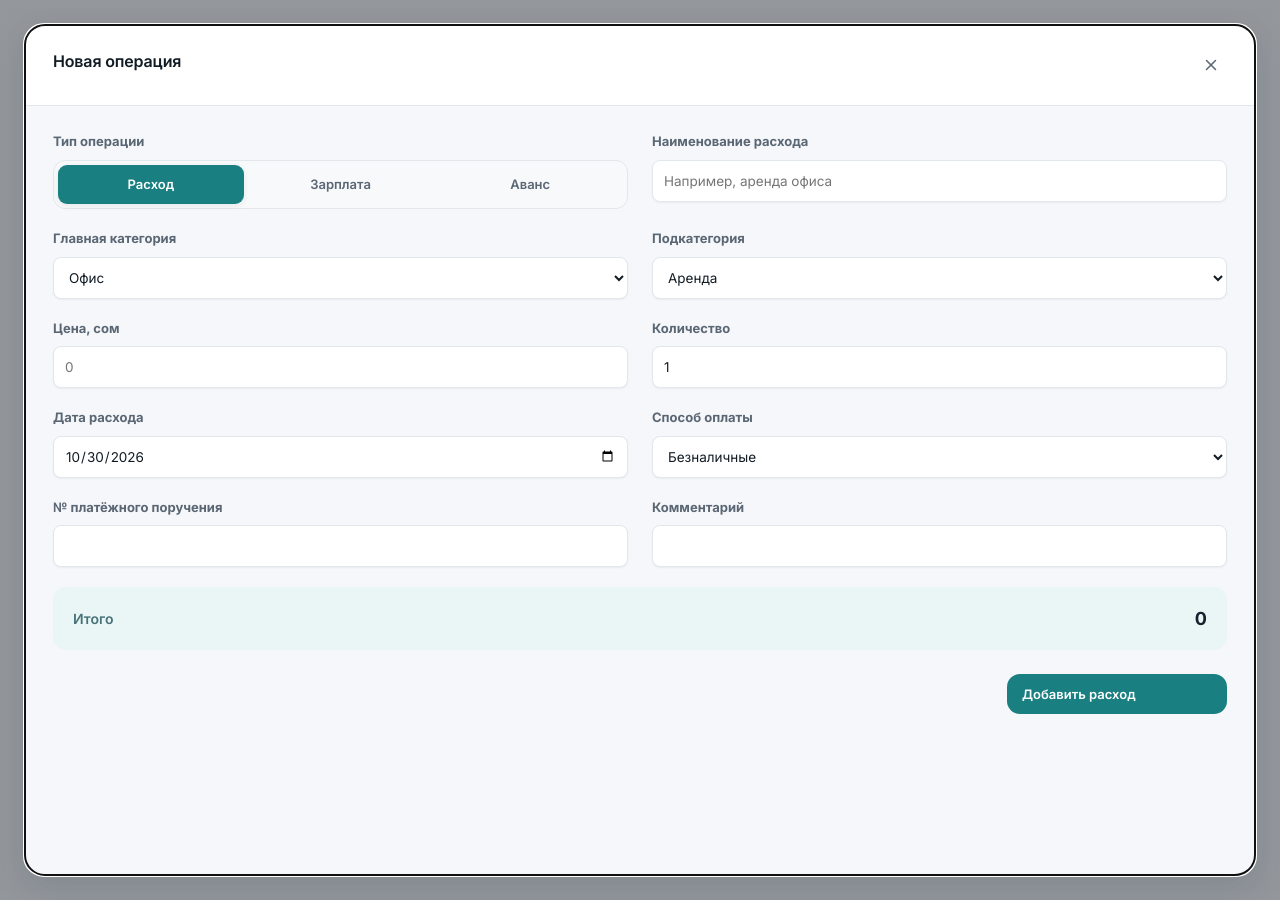
one card keeps payment details while switching between expense, salary and advance
Type "Бумага" into the field labelled "Наименование расхода" at (940, 180), box [652,160,1227,202]
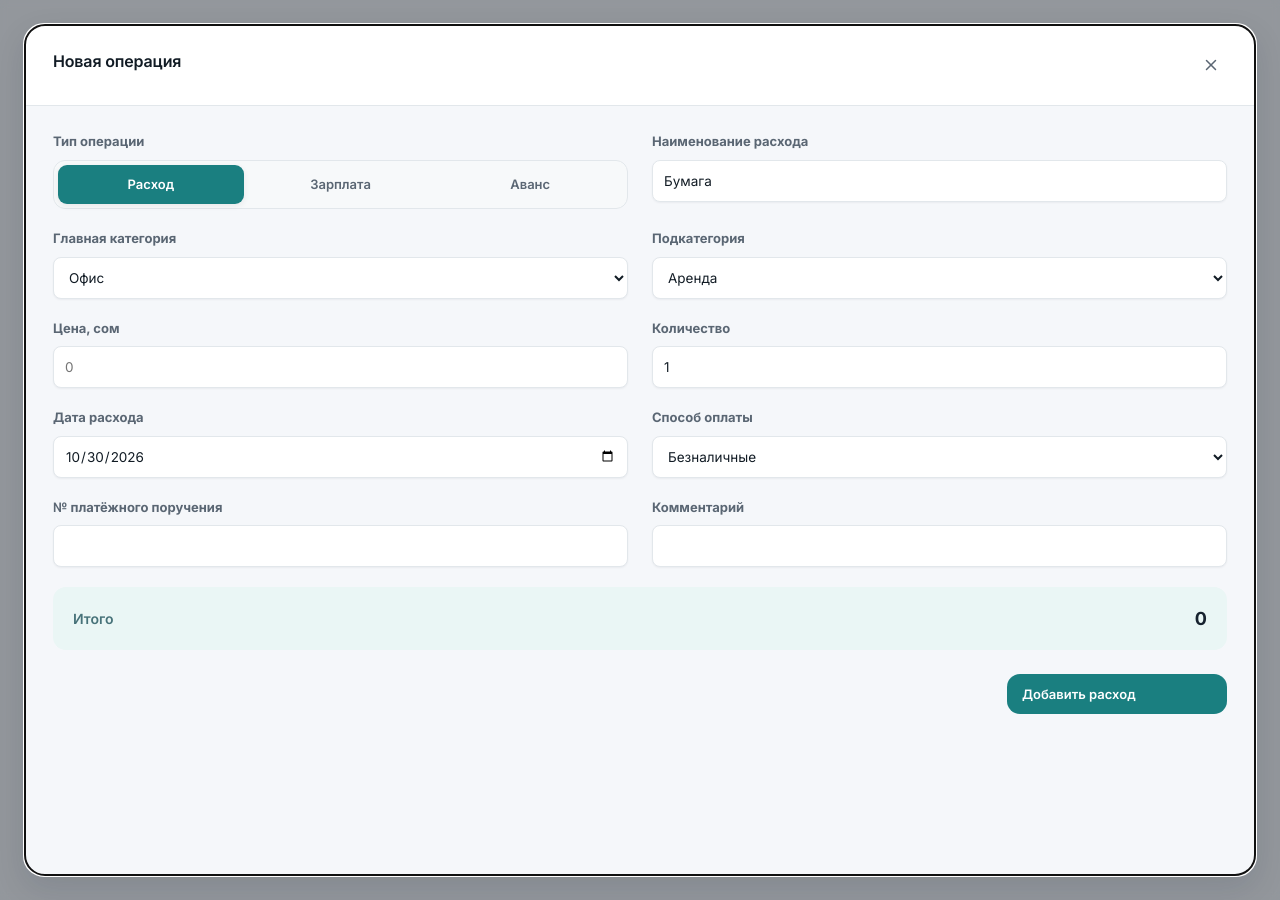
Type "Сохранить комментарий" into the field labelled "Комментарий" at (940, 546), box [652,525,1227,567]
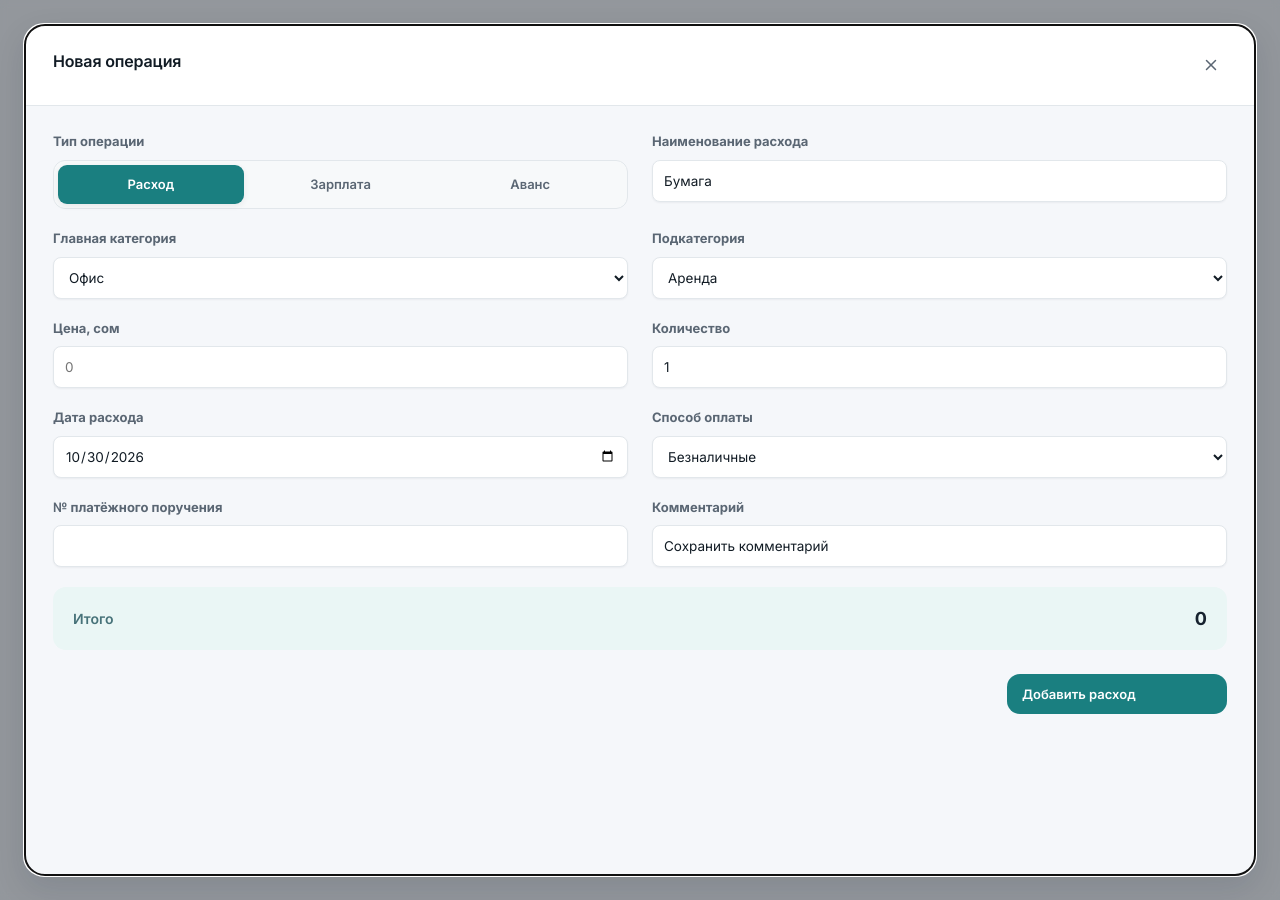
Type "777" into the field labelled "№ платёжного поручения" at (340, 546), box [53,525,628,567]
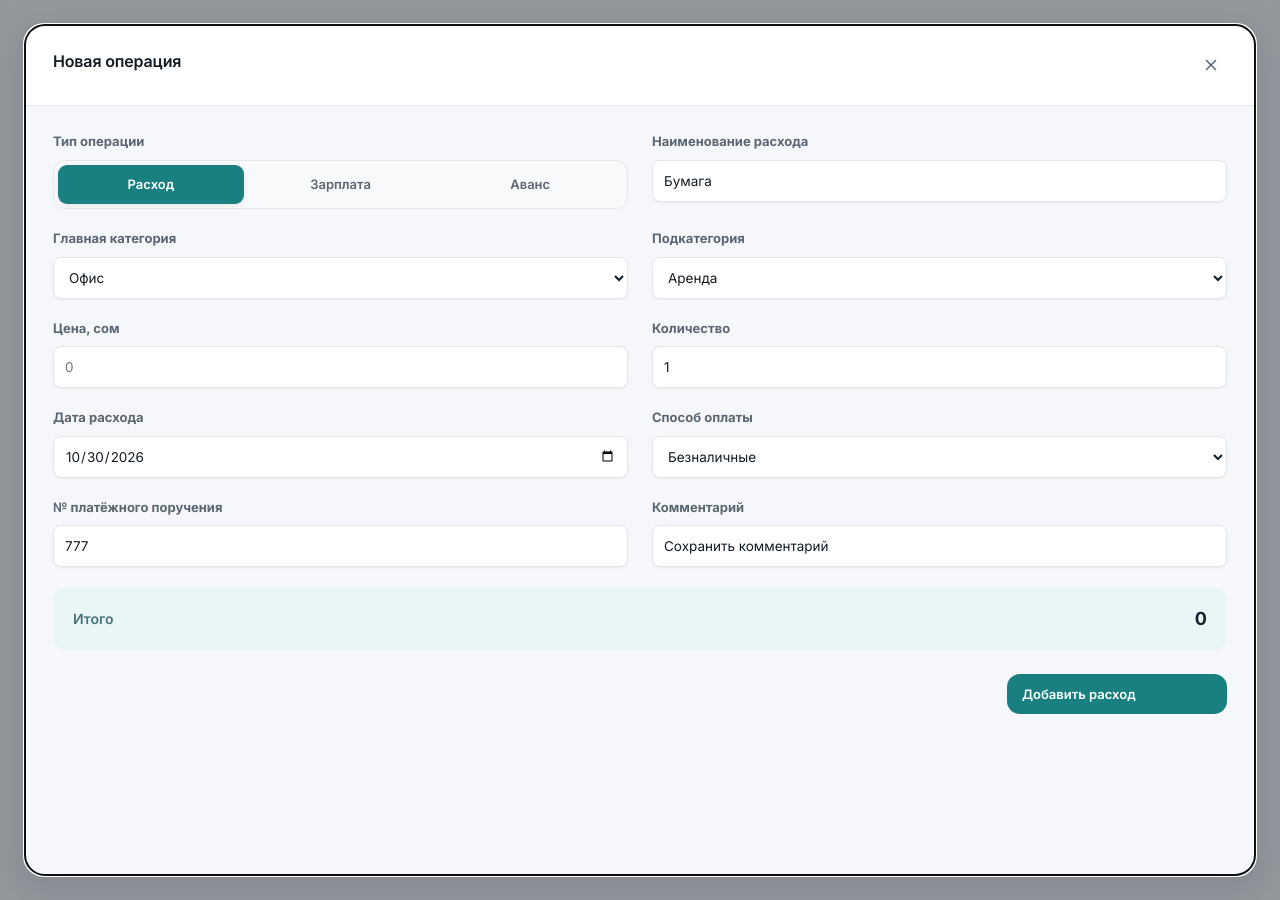
Click the button "Зарплата" at (341, 184), box [248,164,433,204]
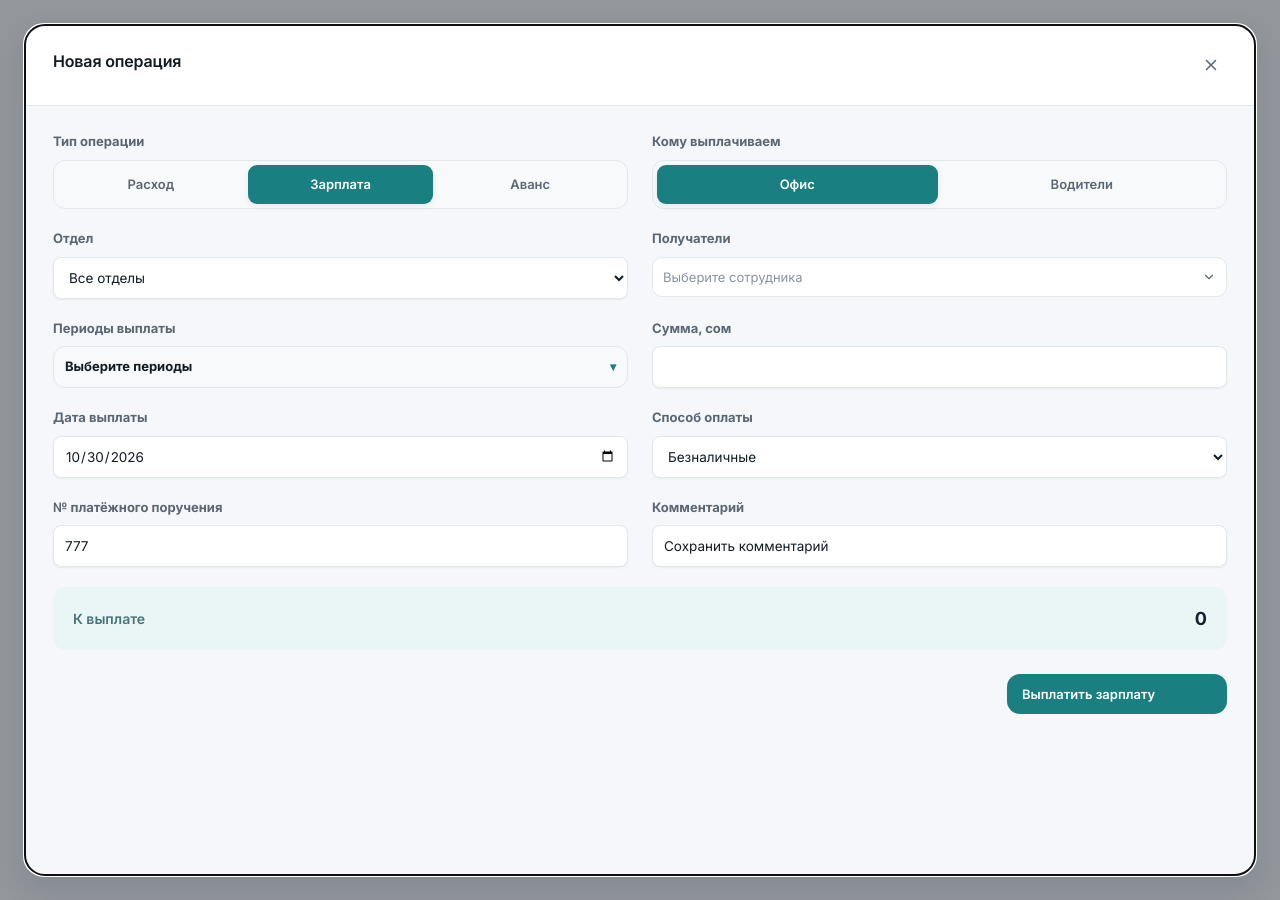
Result: the button with aria-label "Получатели" is shown at [652,256,1227,296]
Click the button "Аванс" at (530, 184), box [437,164,623,204]
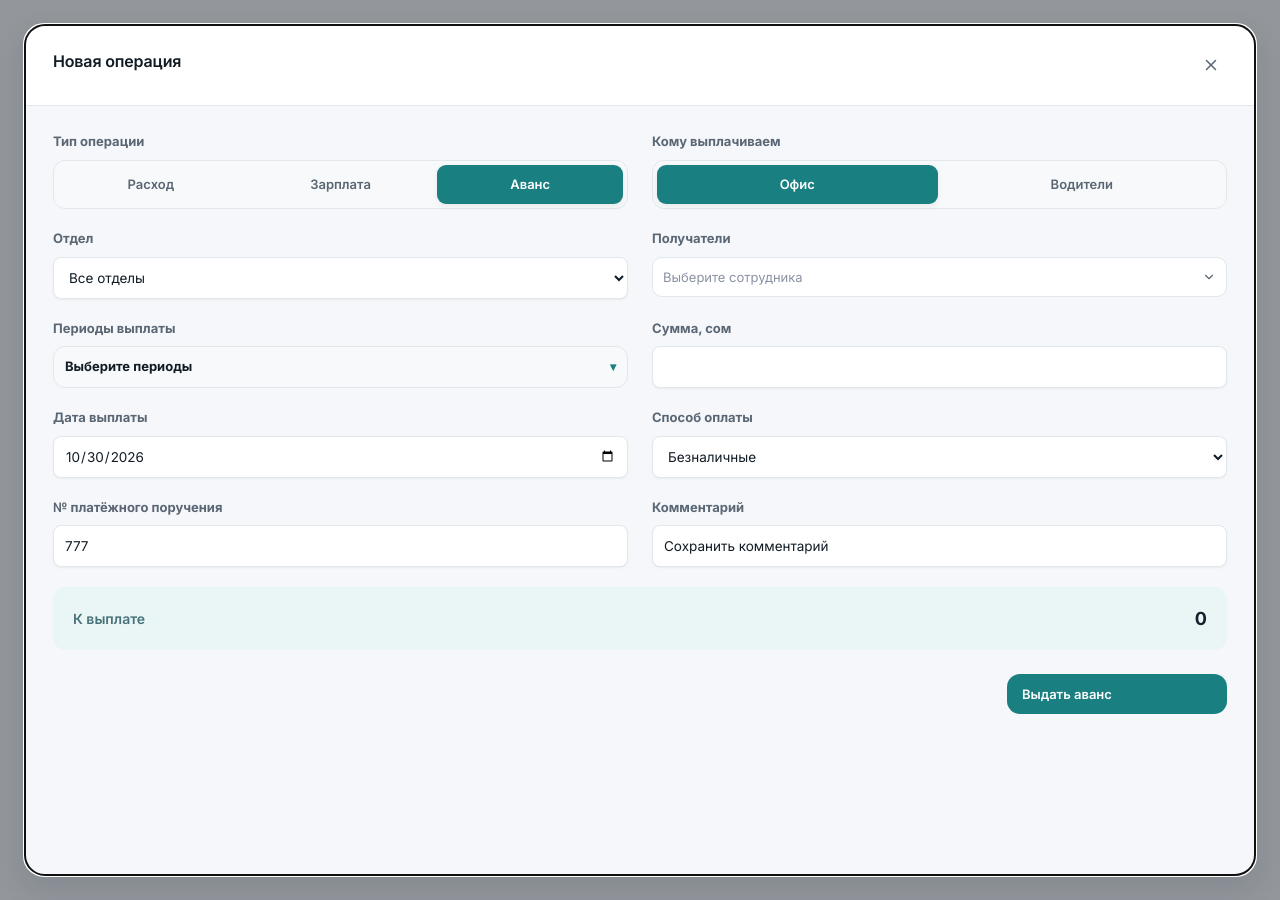
Click the button "Расход" at (151, 184), box [58,164,244,204]
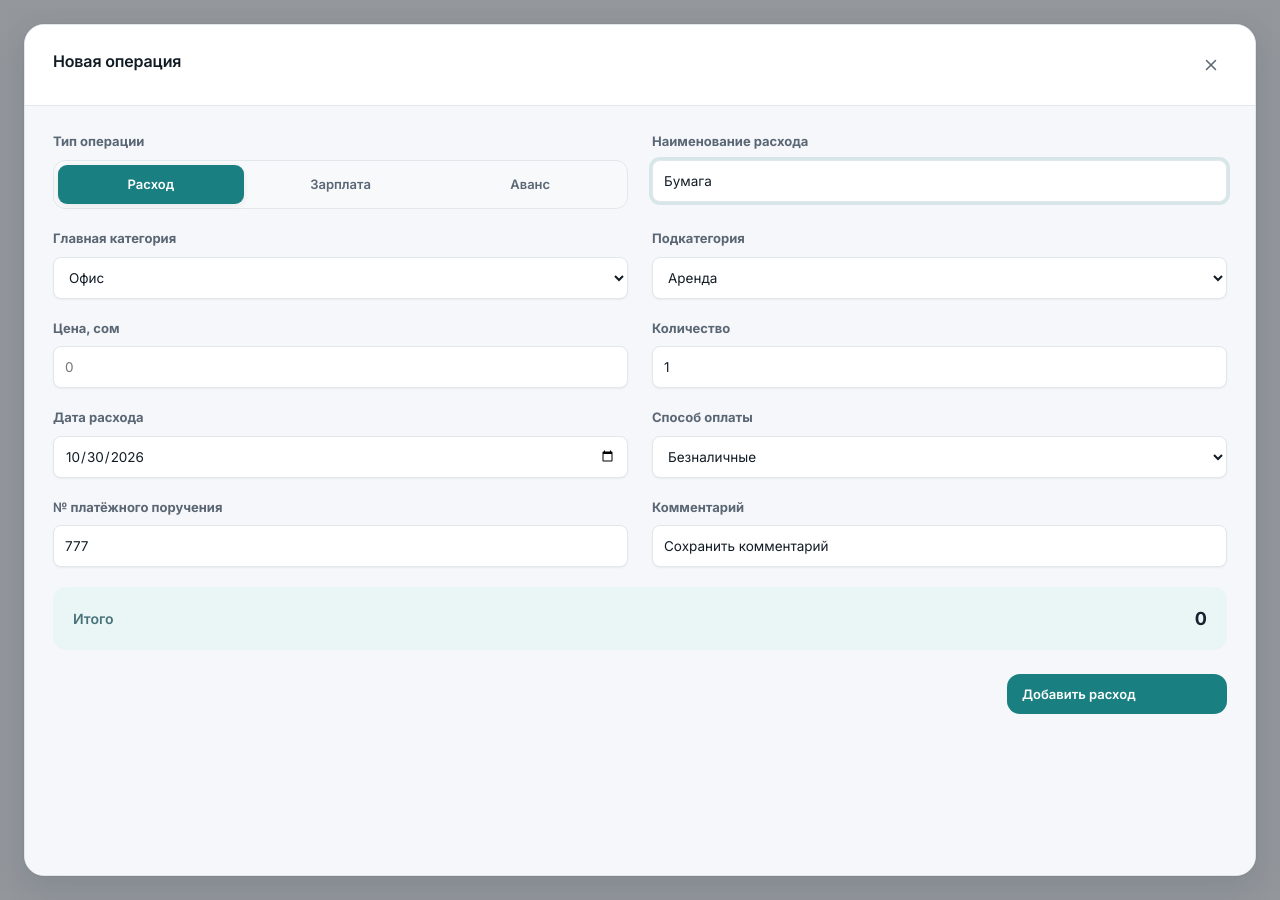
Result: the field labelled "Наименование расхода" holds "Бумага" at [652,160,1227,202]
